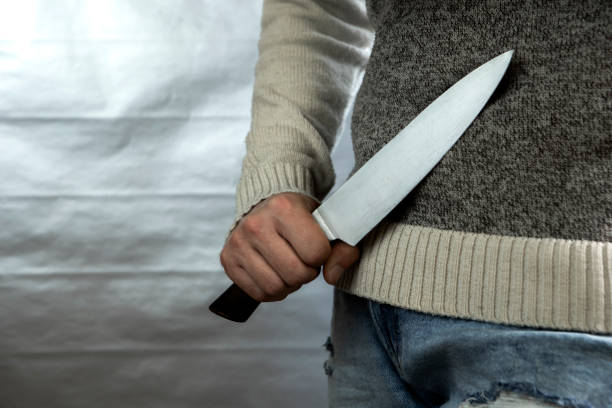knife: (207, 48, 514, 324)
